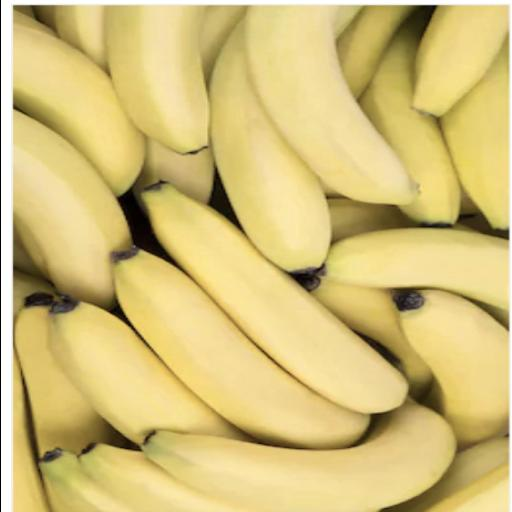banana: (112, 247, 406, 447), (127, 254, 326, 442), (141, 401, 455, 511), (243, 5, 416, 203), (209, 21, 330, 270), (48, 302, 249, 442), (13, 111, 130, 308), (13, 23, 144, 195), (360, 6, 459, 224), (394, 289, 507, 446), (14, 293, 120, 452), (105, 5, 208, 152), (324, 227, 508, 308), (310, 277, 431, 399), (439, 40, 508, 227), (79, 443, 258, 511), (412, 5, 507, 114), (384, 437, 508, 511), (336, 5, 416, 97), (38, 447, 137, 511), (12, 355, 48, 511), (132, 137, 213, 202), (425, 462, 508, 511), (326, 198, 413, 241), (199, 4, 246, 80), (199, 5, 246, 79), (55, 5, 106, 69), (13, 214, 47, 277), (12, 268, 54, 317), (12, 227, 43, 276), (457, 212, 508, 239), (13, 9, 55, 36), (471, 300, 508, 329), (333, 4, 363, 37), (32, 4, 54, 28), (459, 187, 478, 214), (320, 179, 345, 197), (13, 5, 34, 17)
